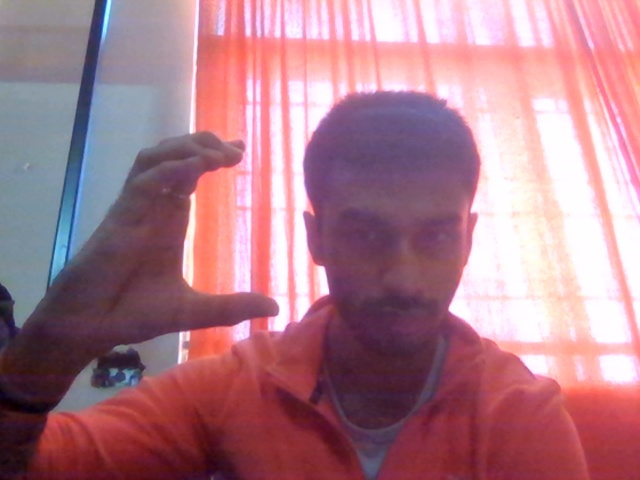C: (27, 112, 293, 411)
